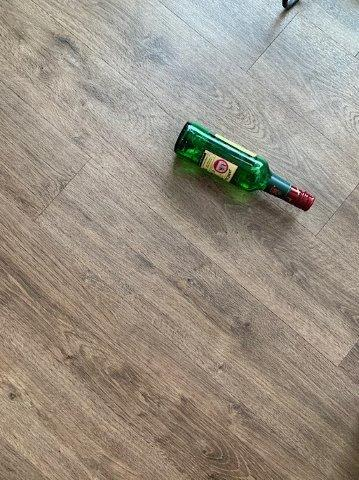botolkaca: (179, 125, 316, 211)
